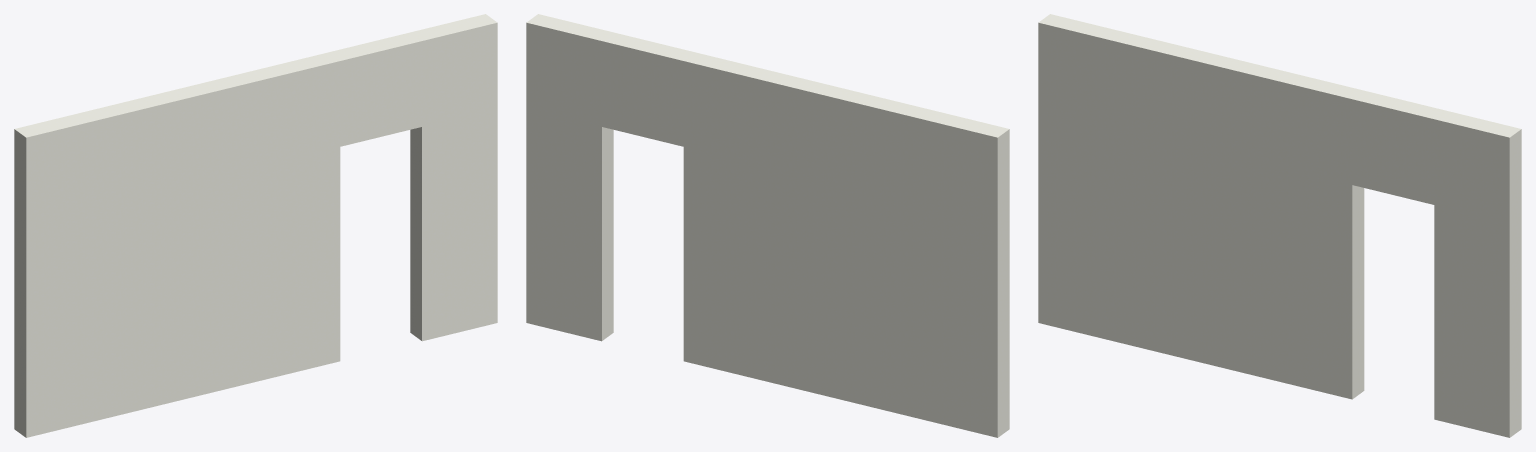
File: SM_Kitchen_FrontWall.fbx
3 renders of one model, left to right at view 1: azimuth 30°, elevation 25°; view 2: azimuth 150°, elevation 25°; view 3: azimuth 330°, elevation 25°, orthographic.
Visible parts, largest first — view 1: SM_Kitchen_FrontWall; view 2: SM_Kitchen_FrontWall; view 3: SM_Kitchen_FrontWall.
Part boxes in pixels (<box>): SM_Kitchen_FrontWall: <box>14,14,497,437</box>; SM_Kitchen_FrontWall: <box>526,14,1009,437</box>; SM_Kitchen_FrontWall: <box>1038,14,1521,437</box>.
Bounding box in the file's own units: 460 × 280 × 20.
1 material, 1 textured.
